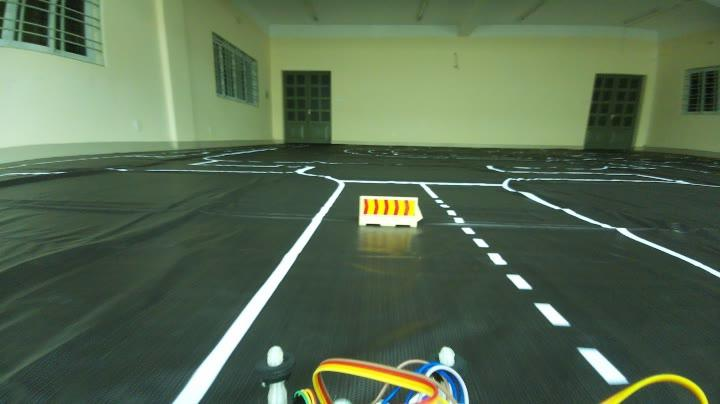roadblock: (356, 188, 424, 233)
